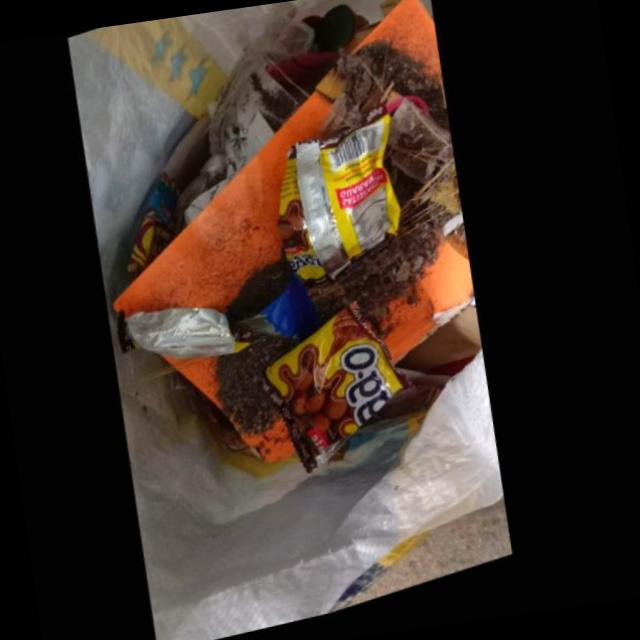bao_bi_thuc_pham: (270, 307, 421, 478), (283, 113, 407, 285), (123, 175, 184, 292), (122, 310, 257, 361)
